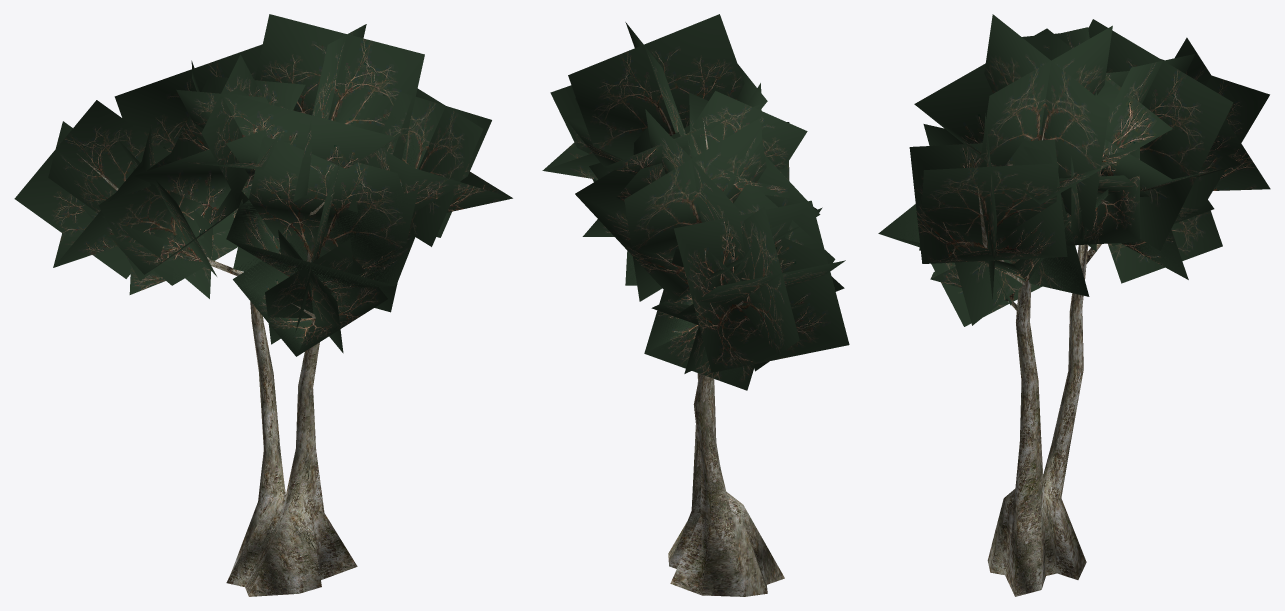
File: decd_hollytreebranches_l0.fbx
3 views of the same model, side by side, from view 1: azimuth 30°, elevation 25°; view 2: azimuth 150°, elevation 25°; view 3: azimuth 270°, elevation 25° (orthographic). The views are drawn at different scales.
Visible parts, largest first — view 1: mesh_node; view 2: mesh_node; view 3: mesh_node.
Part boxes in pixels (x1=…): mesh_node: x1=14, y1=14, x2=512, y2=596; mesh_node: x1=542, y1=14, x2=849, y2=596; mesh_node: x1=878, y1=14, x2=1270, y2=596.
Size of the model in its own units: 13.1 by 18.3 by 11.57.
